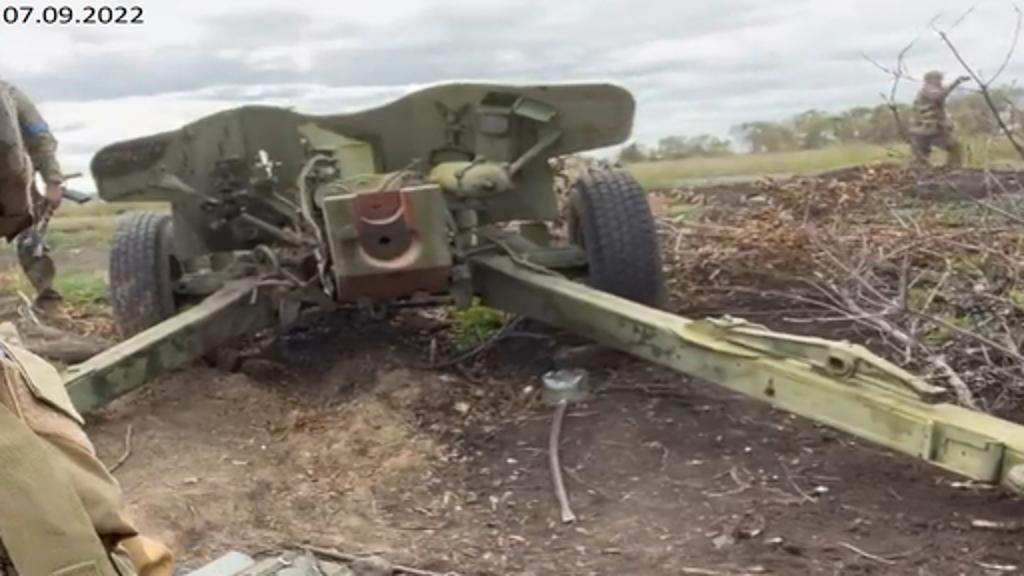ART: (54, 82, 1022, 498)
